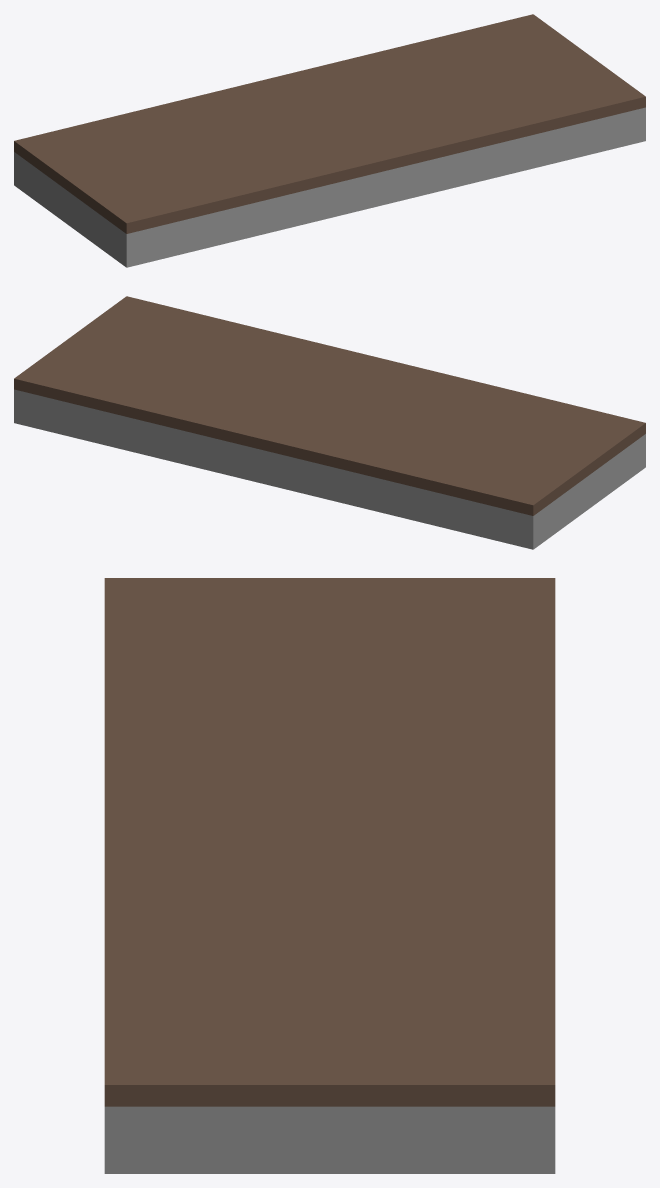
Rendered from Terrace1_C2.fbx.
3 views of the same model, one above another, from view 1: azimuth 30°, elevation 25°; view 2: azimuth 150°, elevation 25°; view 3: azimuth 270°, elevation 25° (orthographic). The views are drawn at different scales.
Parts seen in each view (by area): view 1: Terrace1_C2; view 2: Terrace1_C2; view 3: Terrace1_C2.
Part boxes in pixels (x1=…): Terrace1_C2: x1=14, y1=14, x2=645, y2=267; Terrace1_C2: x1=14, y1=296, x2=645, y2=549; Terrace1_C2: x1=104, y1=578, x2=555, y2=1173.
Size of the model in its own units: 1.22 by 0.1 by 0.4591.
